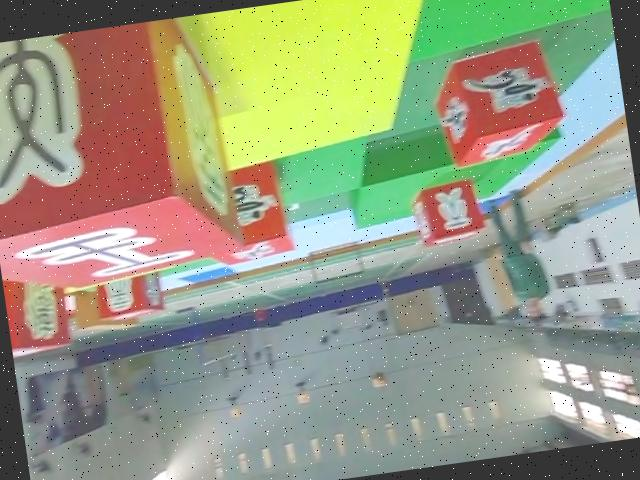R1: (431, 40, 572, 169), (187, 154, 299, 273)
R2 Fake: (0, 13, 245, 299), (2, 265, 75, 360), (410, 179, 489, 248), (92, 256, 168, 324)
